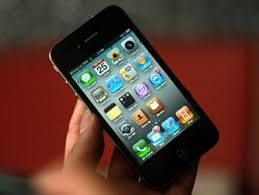iphone: (45, 4, 229, 186)
iphone4: (46, 4, 230, 186)
